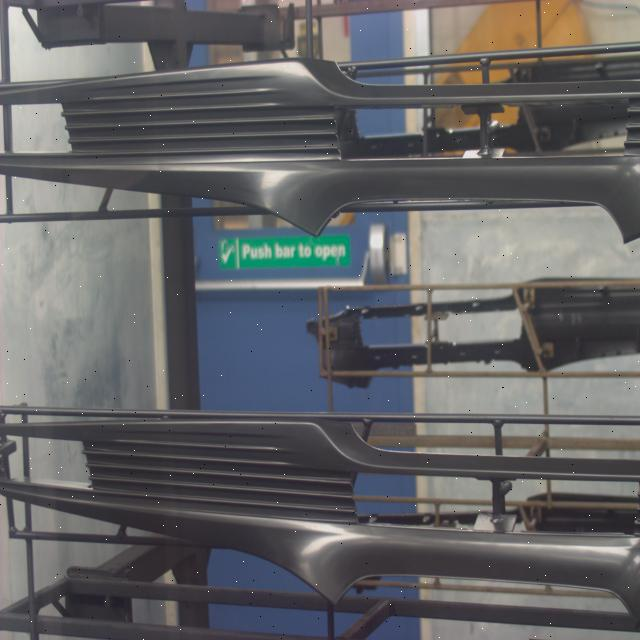Non_primered: (0, 416, 640, 603), (2, 59, 640, 240)
